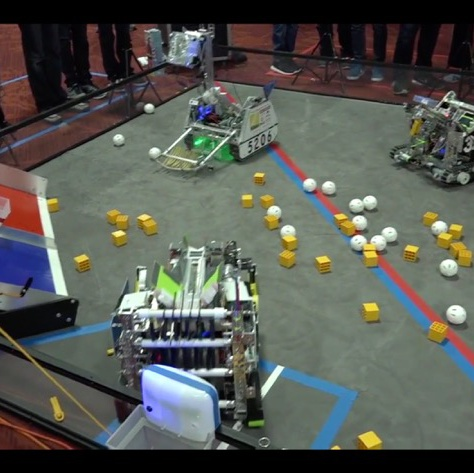robot: (112, 235, 264, 437), (150, 83, 285, 179), (389, 89, 474, 191)
